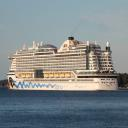cruises: (7, 36, 120, 93)
